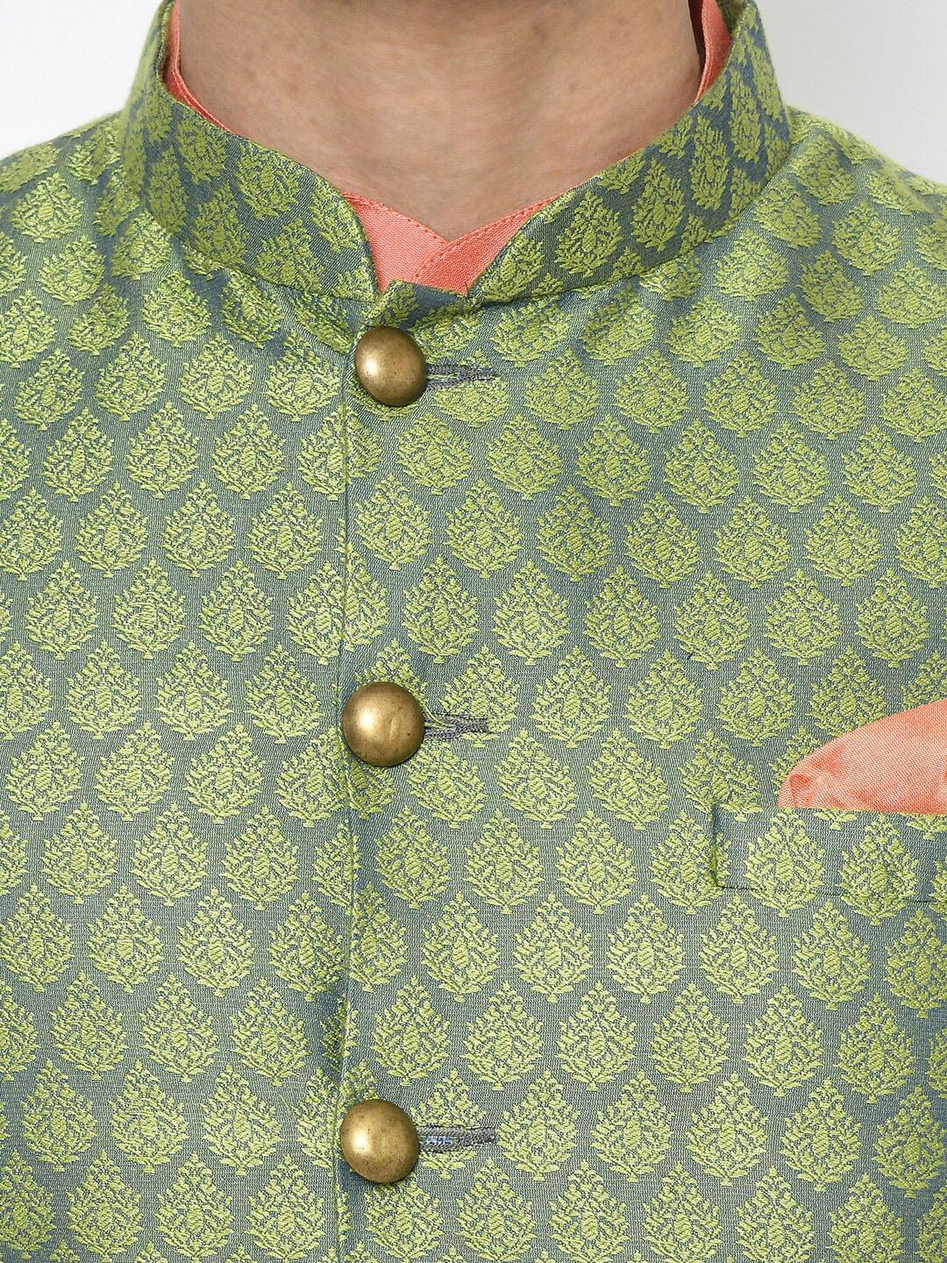Design Sherwani: (4, 2, 943, 1261)
